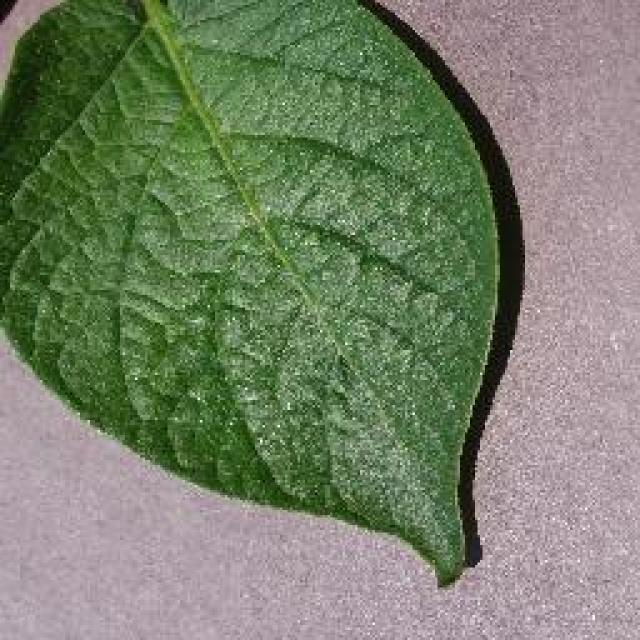Potato___healthy: (0, 0, 497, 591)
